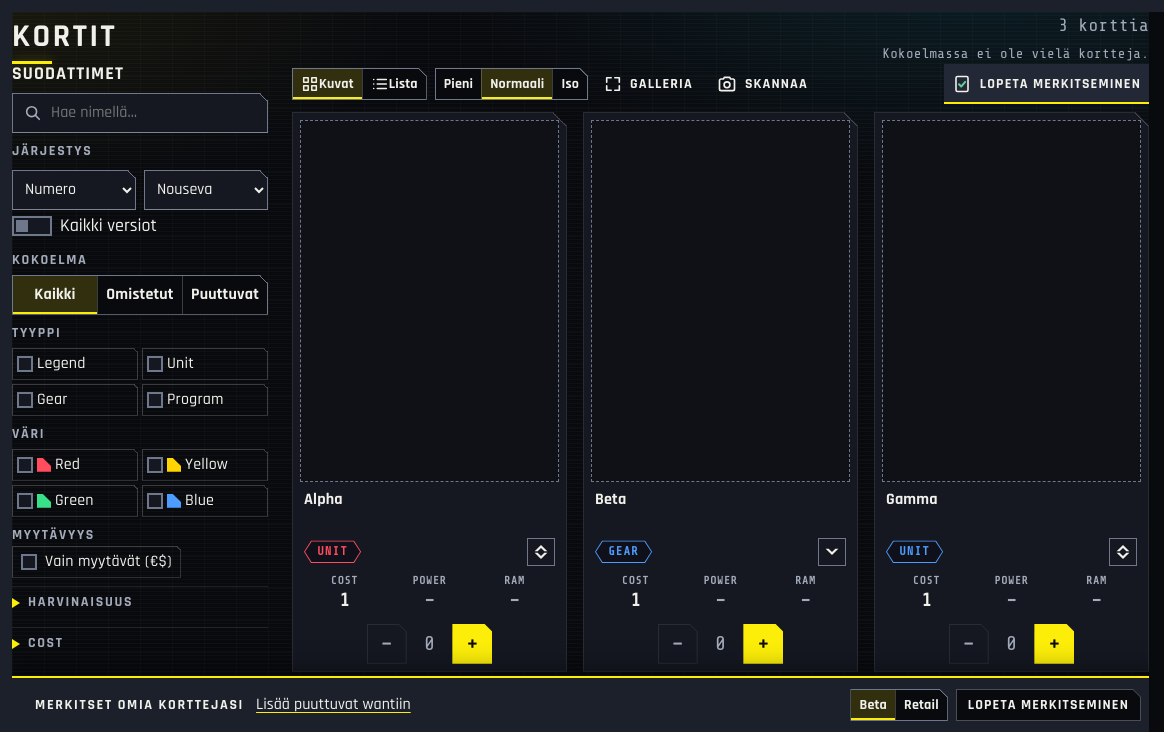
CatalogView layout (T-050a) › offers the image size in the grid view, Keski by default, and greys it out in place in the list (T-126)
Check: the radio button labelled "Normaali" is checked, box top-left (481, 69), bottom-right (552, 99)
Click the radio button labelled "Iso" at (570, 84), box top-left (552, 69), bottom-right (587, 99)
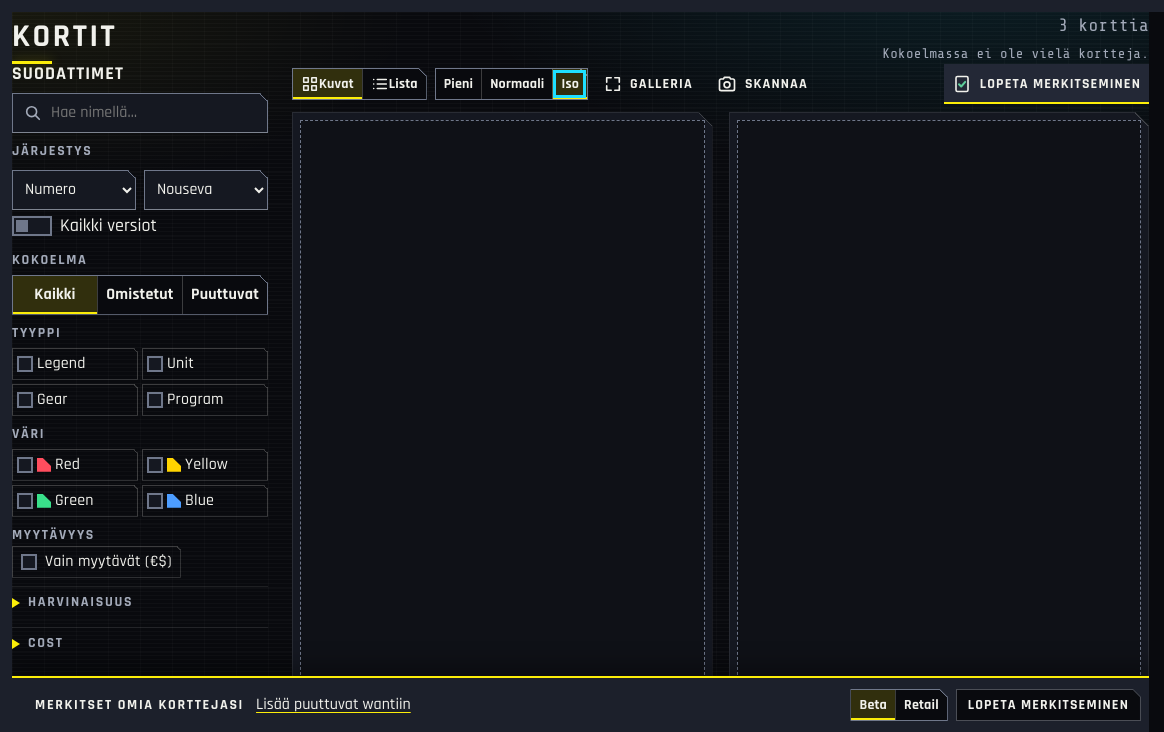
Click the radio button labelled "Lista" at (394, 84), box top-left (362, 69), bottom-right (426, 99)
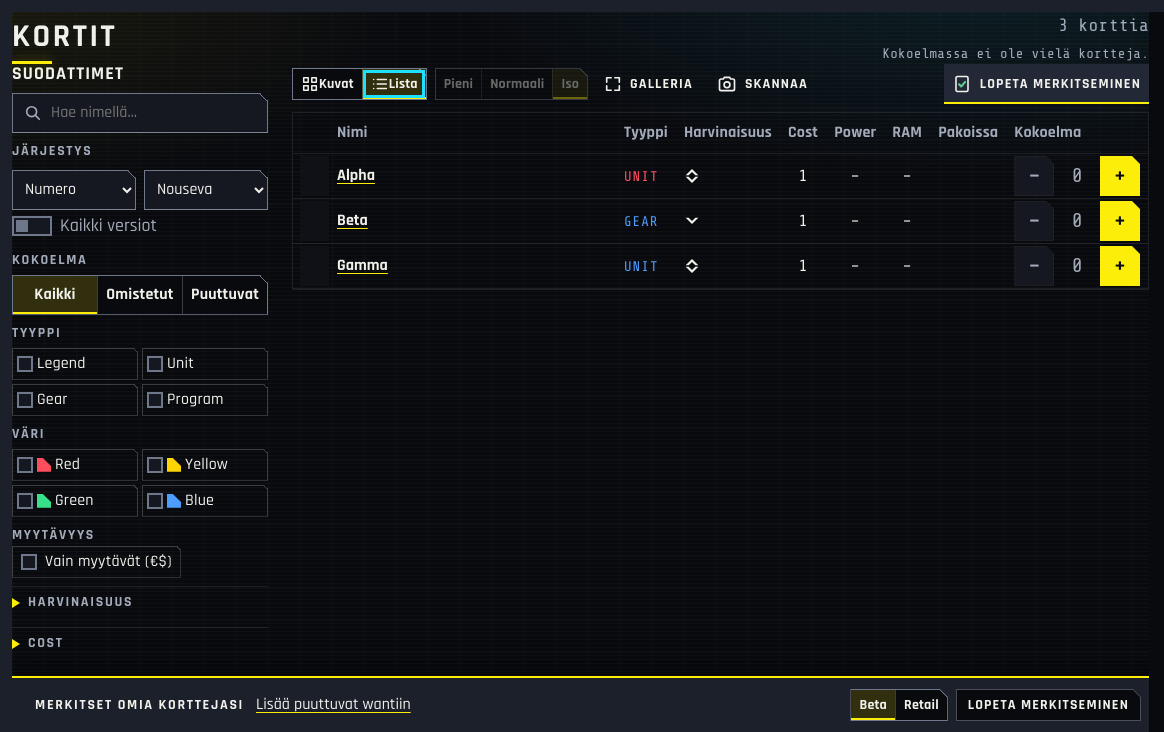
Check: the element named "Kuvakoko" is disabled, box top-left (435, 68), bottom-right (588, 100)
